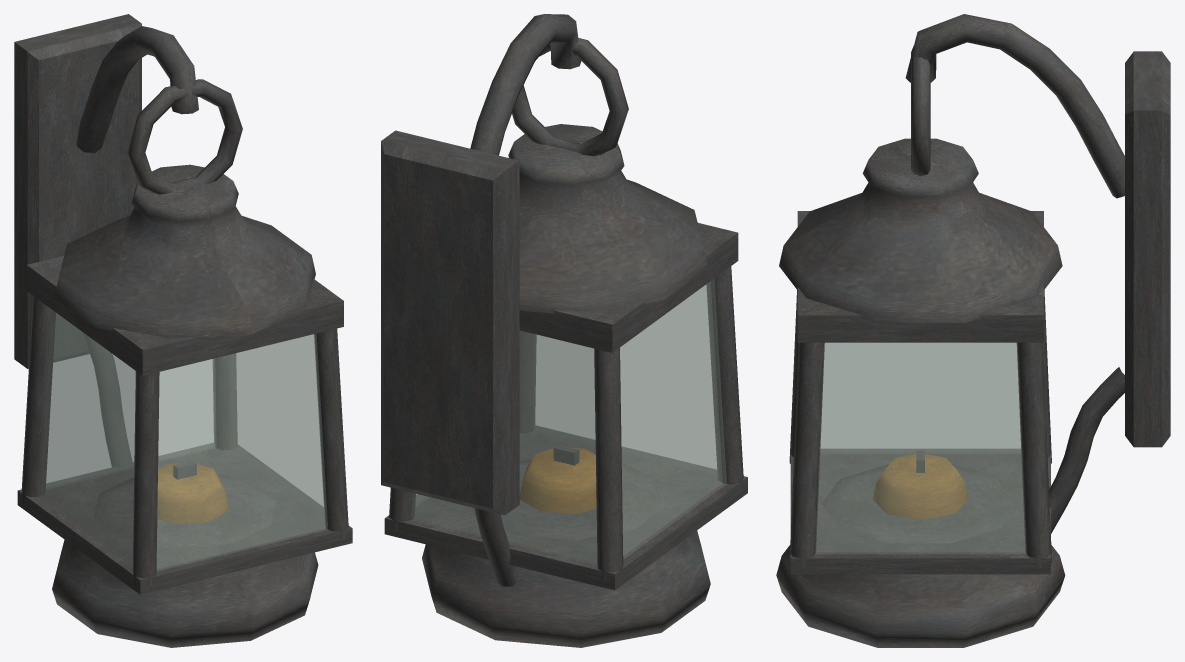
The model's file is city1880-entry-lantern-unlit.gltf.
The picture shows the model from 3 angles, left to right: view 1: azimuth 30°, elevation 25°; view 2: azimuth 150°, elevation 25°; view 3: azimuth 270°, elevation 25°; orthographic projection. The views are drawn at different scales.
Parts seen in each view (by area): view 1: Kerosene entry lantern · unlit; view 2: Kerosene entry lantern · unlit; view 3: Kerosene entry lantern · unlit.
Part boxes in pixels (<box>): Kerosene entry lantern · unlit: <box>14,14,352,647</box>; Kerosene entry lantern · unlit: <box>381,14,747,647</box>; Kerosene entry lantern · unlit: <box>776,14,1170,647</box>.
Bounding box in the file's own units: 0.253 × 0.5865 × 0.363.
Materials: 2 (1 with a texture image).
